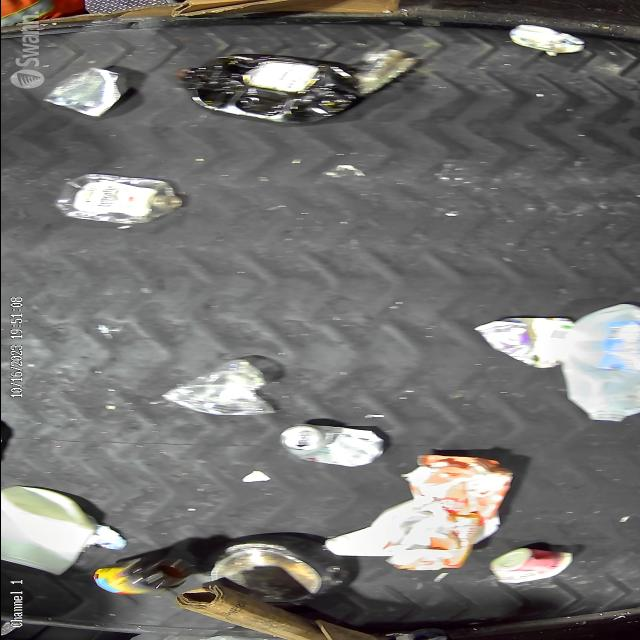can: (281, 421, 394, 466), (38, 67, 126, 119)
milk_jug: (559, 299, 640, 423)
